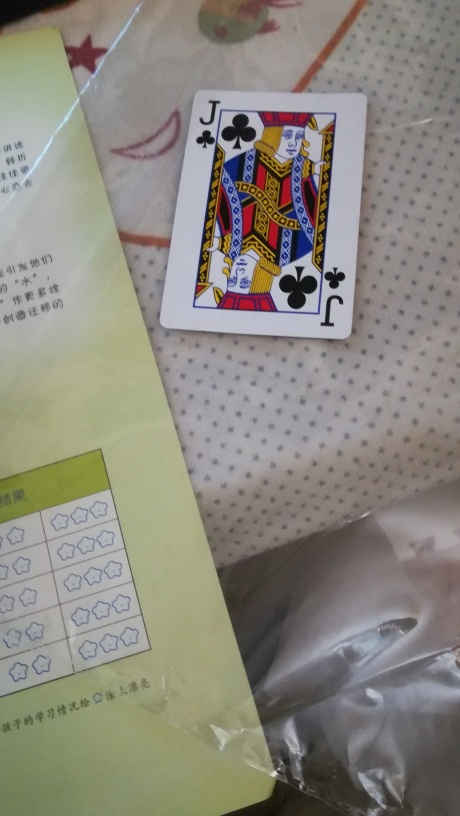mh j: (154, 88, 367, 346)
